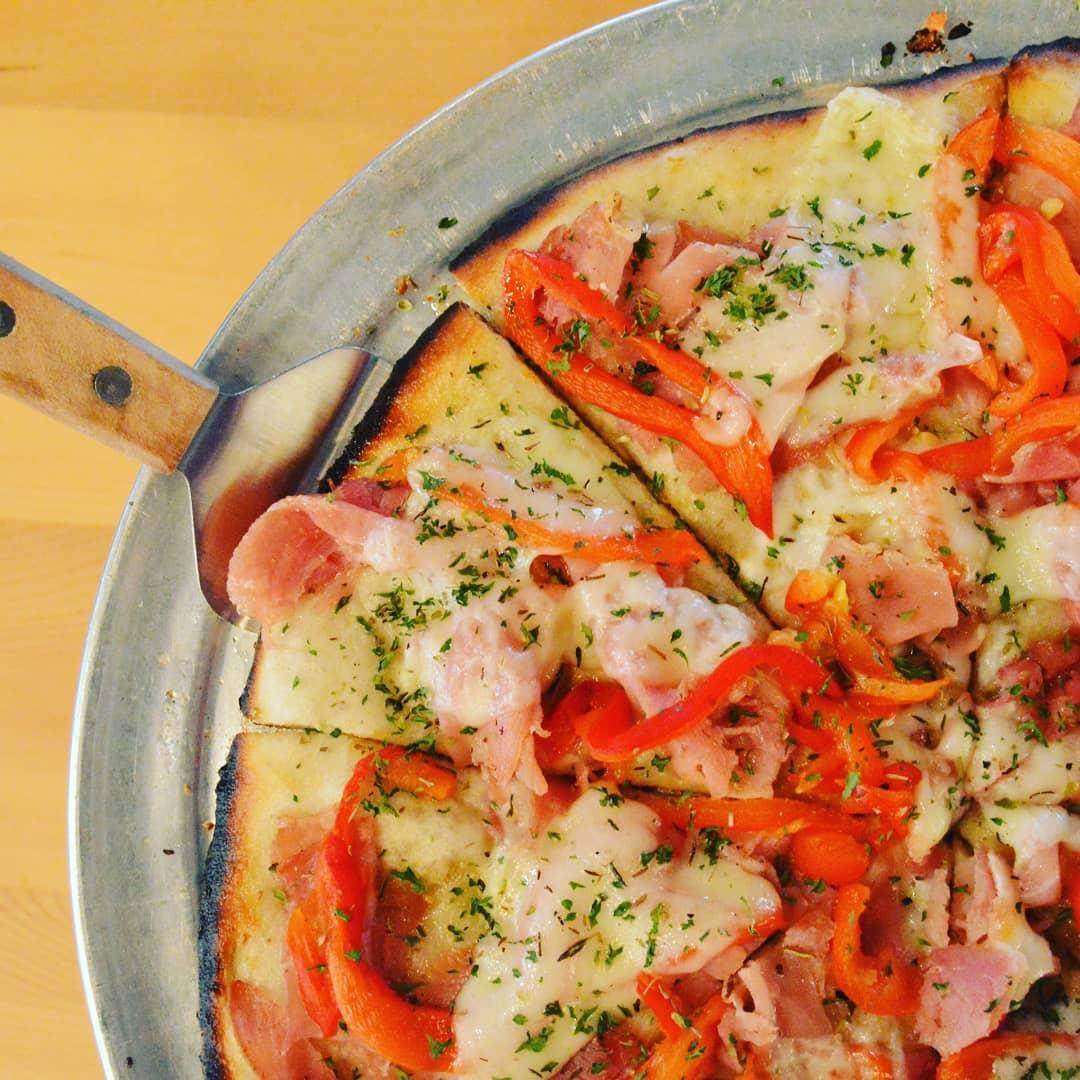Ham: (559, 197, 747, 321), (225, 500, 413, 615), (439, 612, 544, 806), (838, 534, 963, 637), (921, 947, 1012, 1053)
Peppers: (936, 117, 1080, 424), (322, 741, 438, 1080), (545, 638, 960, 732), (375, 453, 704, 571), (507, 254, 659, 410), (661, 797, 918, 885), (659, 349, 778, 534), (850, 424, 1080, 492), (635, 972, 767, 1080), (831, 886, 921, 1022), (787, 733, 919, 798)
Pizza: (207, 47, 1080, 1080)
